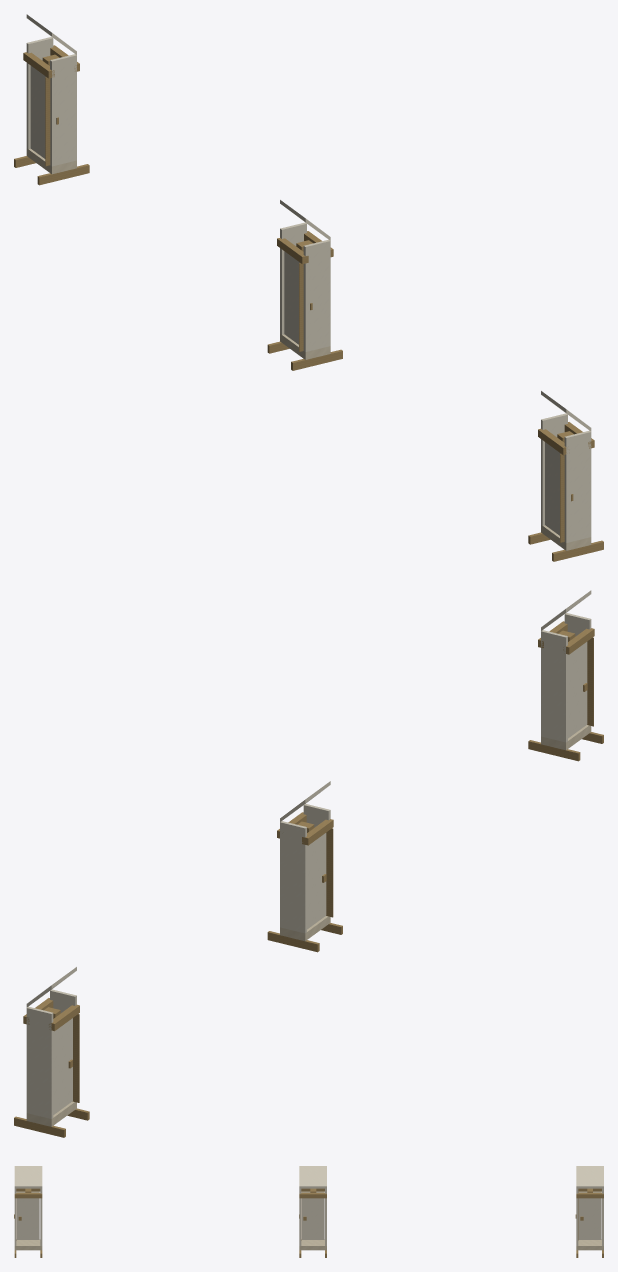
File: D04_PORT_CENTRAL_COURT_WORK_LINKS_r001.glb
The picture shows the model from 3 angles, top to bottom: view 1: azimuth 30°, elevation 25°; view 2: azimuth 150°, elevation 25°; view 3: azimuth 270°, elevation 25°; orthographic projection. The views are drawn at different scales.
Parts seen in each view (by area): view 1: PCW_Jamb0North, PCW_Jamb1North, PCW_Jamb2North, PCW_G2_D04PC_CourtSouth_Leaf, PCW_G1_D04PC_CourtSouth_Leaf, PCW_G0_D04PC_CourtSouth_Leaf, PCW_Jamb2South, PCW_Jamb1South, PCW_Jamb0South; view 2: PCW_Jamb2South, PCW_Jamb0South, PCW_Jamb1South, PCW_G2_D04PC_CourtSouth_Leaf, PCW_G0_D04PC_CourtSouth_Leaf, PCW_G1_D04PC_CourtSouth_Leaf; view 3: PCW_G2_D04PC_CourtSouth_Leaf, PCW_G0_D04PC_CourtSouth_Leaf, PCW_G1_D04PC_CourtSouth_Leaf, PCW_SlopingCanopy0, PCW_SlopingCanopy1, PCW_SlopingCanopy2, PCW_GapFloor0, PCW_GapFloor1, PCW_GapFloor2, PCW_CollarHeader0-64.7, PCW_CollarHeader1-64.7, PCW_CollarHeader2-64.7 (+4 smaller).
Boxes of the visible parts, x1,y1,x2,y2 form: PCW_Jamb0North: [564, 430, 591, 542]; PCW_Jamb1North: [303, 239, 330, 351]; PCW_Jamb2North: [50, 54, 76, 166]; PCW_G2_D04PC_CourtSouth_Leaf: [30, 66, 46, 158]; PCW_G1_D04PC_CourtSouth_Leaf: [284, 251, 299, 344]; PCW_G0_D04PC_CourtSouth_Leaf: [545, 442, 560, 535]; PCW_Jamb2South: [26, 37, 53, 149]; PCW_Jamb1South: [280, 222, 306, 334]; PCW_Jamb0South: [541, 413, 567, 525]; PCW_Jamb2South: [26, 1006, 53, 1118]; PCW_Jamb0South: [541, 630, 567, 742]; PCW_Jamb1South: [280, 821, 306, 933]; PCW_G2_D04PC_CourtSouth_Leaf: [53, 1018, 72, 1114]; PCW_G0_D04PC_CourtSouth_Leaf: [568, 642, 587, 738]; PCW_G1_D04PC_CourtSouth_Leaf: [307, 833, 326, 929]; PCW_G2_D04PC_CourtSouth_Leaf: [578, 1191, 601, 1239]; PCW_G0_D04PC_CourtSouth_Leaf: [17, 1191, 39, 1239]; PCW_G1_D04PC_CourtSouth_Leaf: [302, 1191, 324, 1239]; PCW_SlopingCanopy0: [14, 1166, 42, 1188]; PCW_SlopingCanopy1: [299, 1166, 326, 1188]; PCW_SlopingCanopy2: [576, 1166, 603, 1188]; PCW_GapFloor0: [14, 1239, 42, 1250]; PCW_GapFloor1: [299, 1239, 326, 1250]; PCW_GapFloor2: [576, 1239, 603, 1250]; PCW_CollarHeader0-64.7: [14, 1192, 42, 1198]; PCW_CollarHeader1-64.7: [299, 1192, 326, 1198]; PCW_CollarHeader2-64.7: [576, 1192, 603, 1198].
Bounding box in the file's own units: 1.6 × 4.56 × 29.83.
6 materials, 6 textured.
